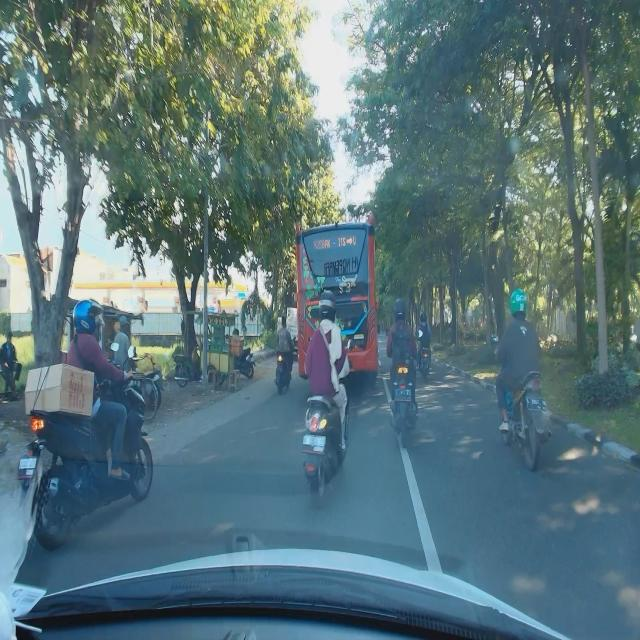bus: (295, 219, 379, 380)
